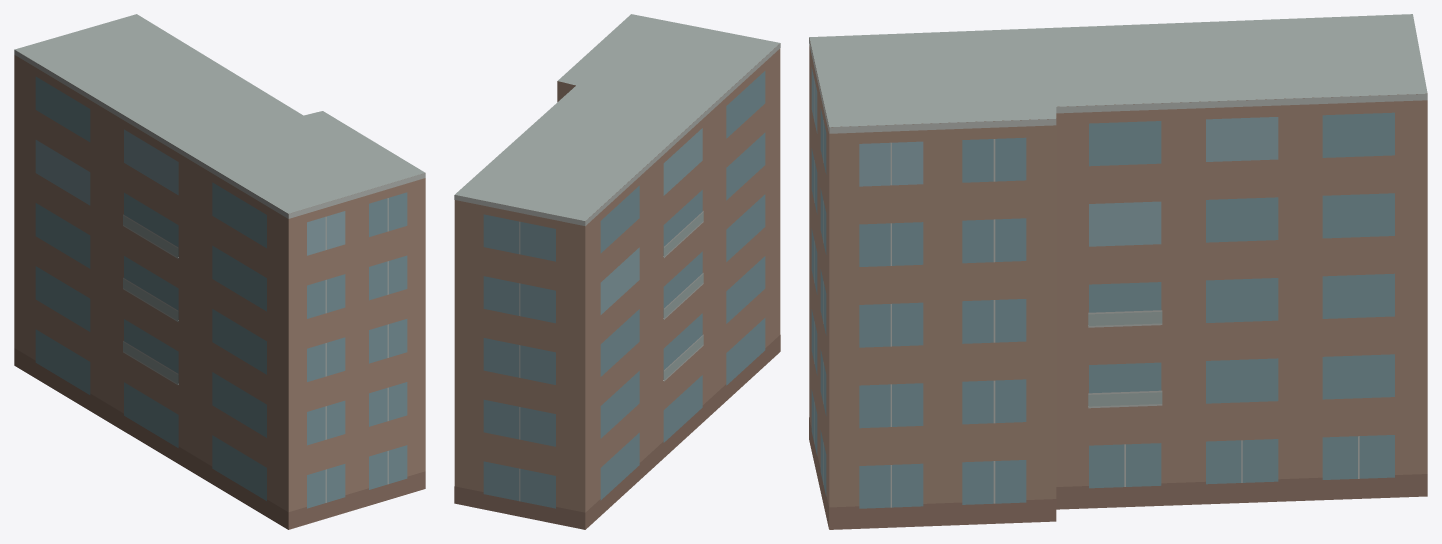
File: survey-upis-33039192.glb
3 renders of one model, left to right at view 1: azimuth 30°, elevation 25°; view 2: azimuth 150°, elevation 25°; view 3: azimuth 270°, elevation 25°, orthographic. The views are drawn at different scales.
Parts seen in each view (by area): view 1: survey-upis-33039192.tmp; view 2: survey-upis-33039192.tmp; view 3: survey-upis-33039192.tmp.
Part boxes in pixels (x1=…): survey-upis-33039192.tmp: x1=14, y1=14, x2=425, y2=529; survey-upis-33039192.tmp: x1=454, y1=14, x2=780, y2=529; survey-upis-33039192.tmp: x1=809, y1=14, x2=1427, y2=529.
Size of the model in its own units: 8.99 by 14.9 by 20.75.
